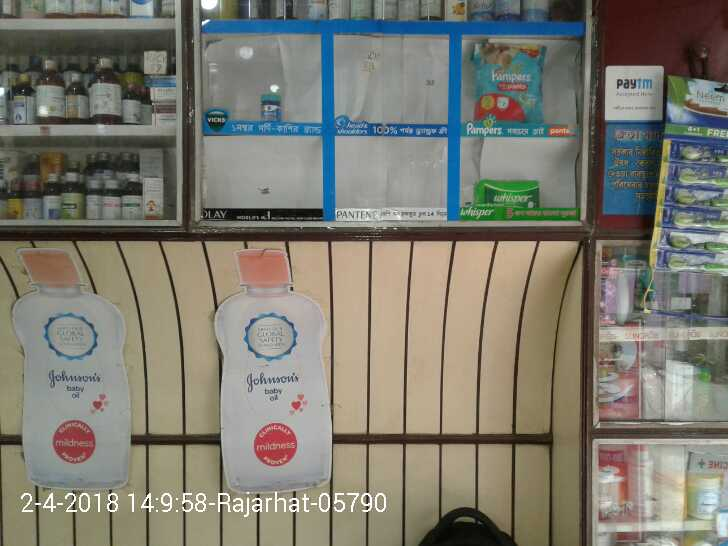vicks: (259, 90, 284, 122)
